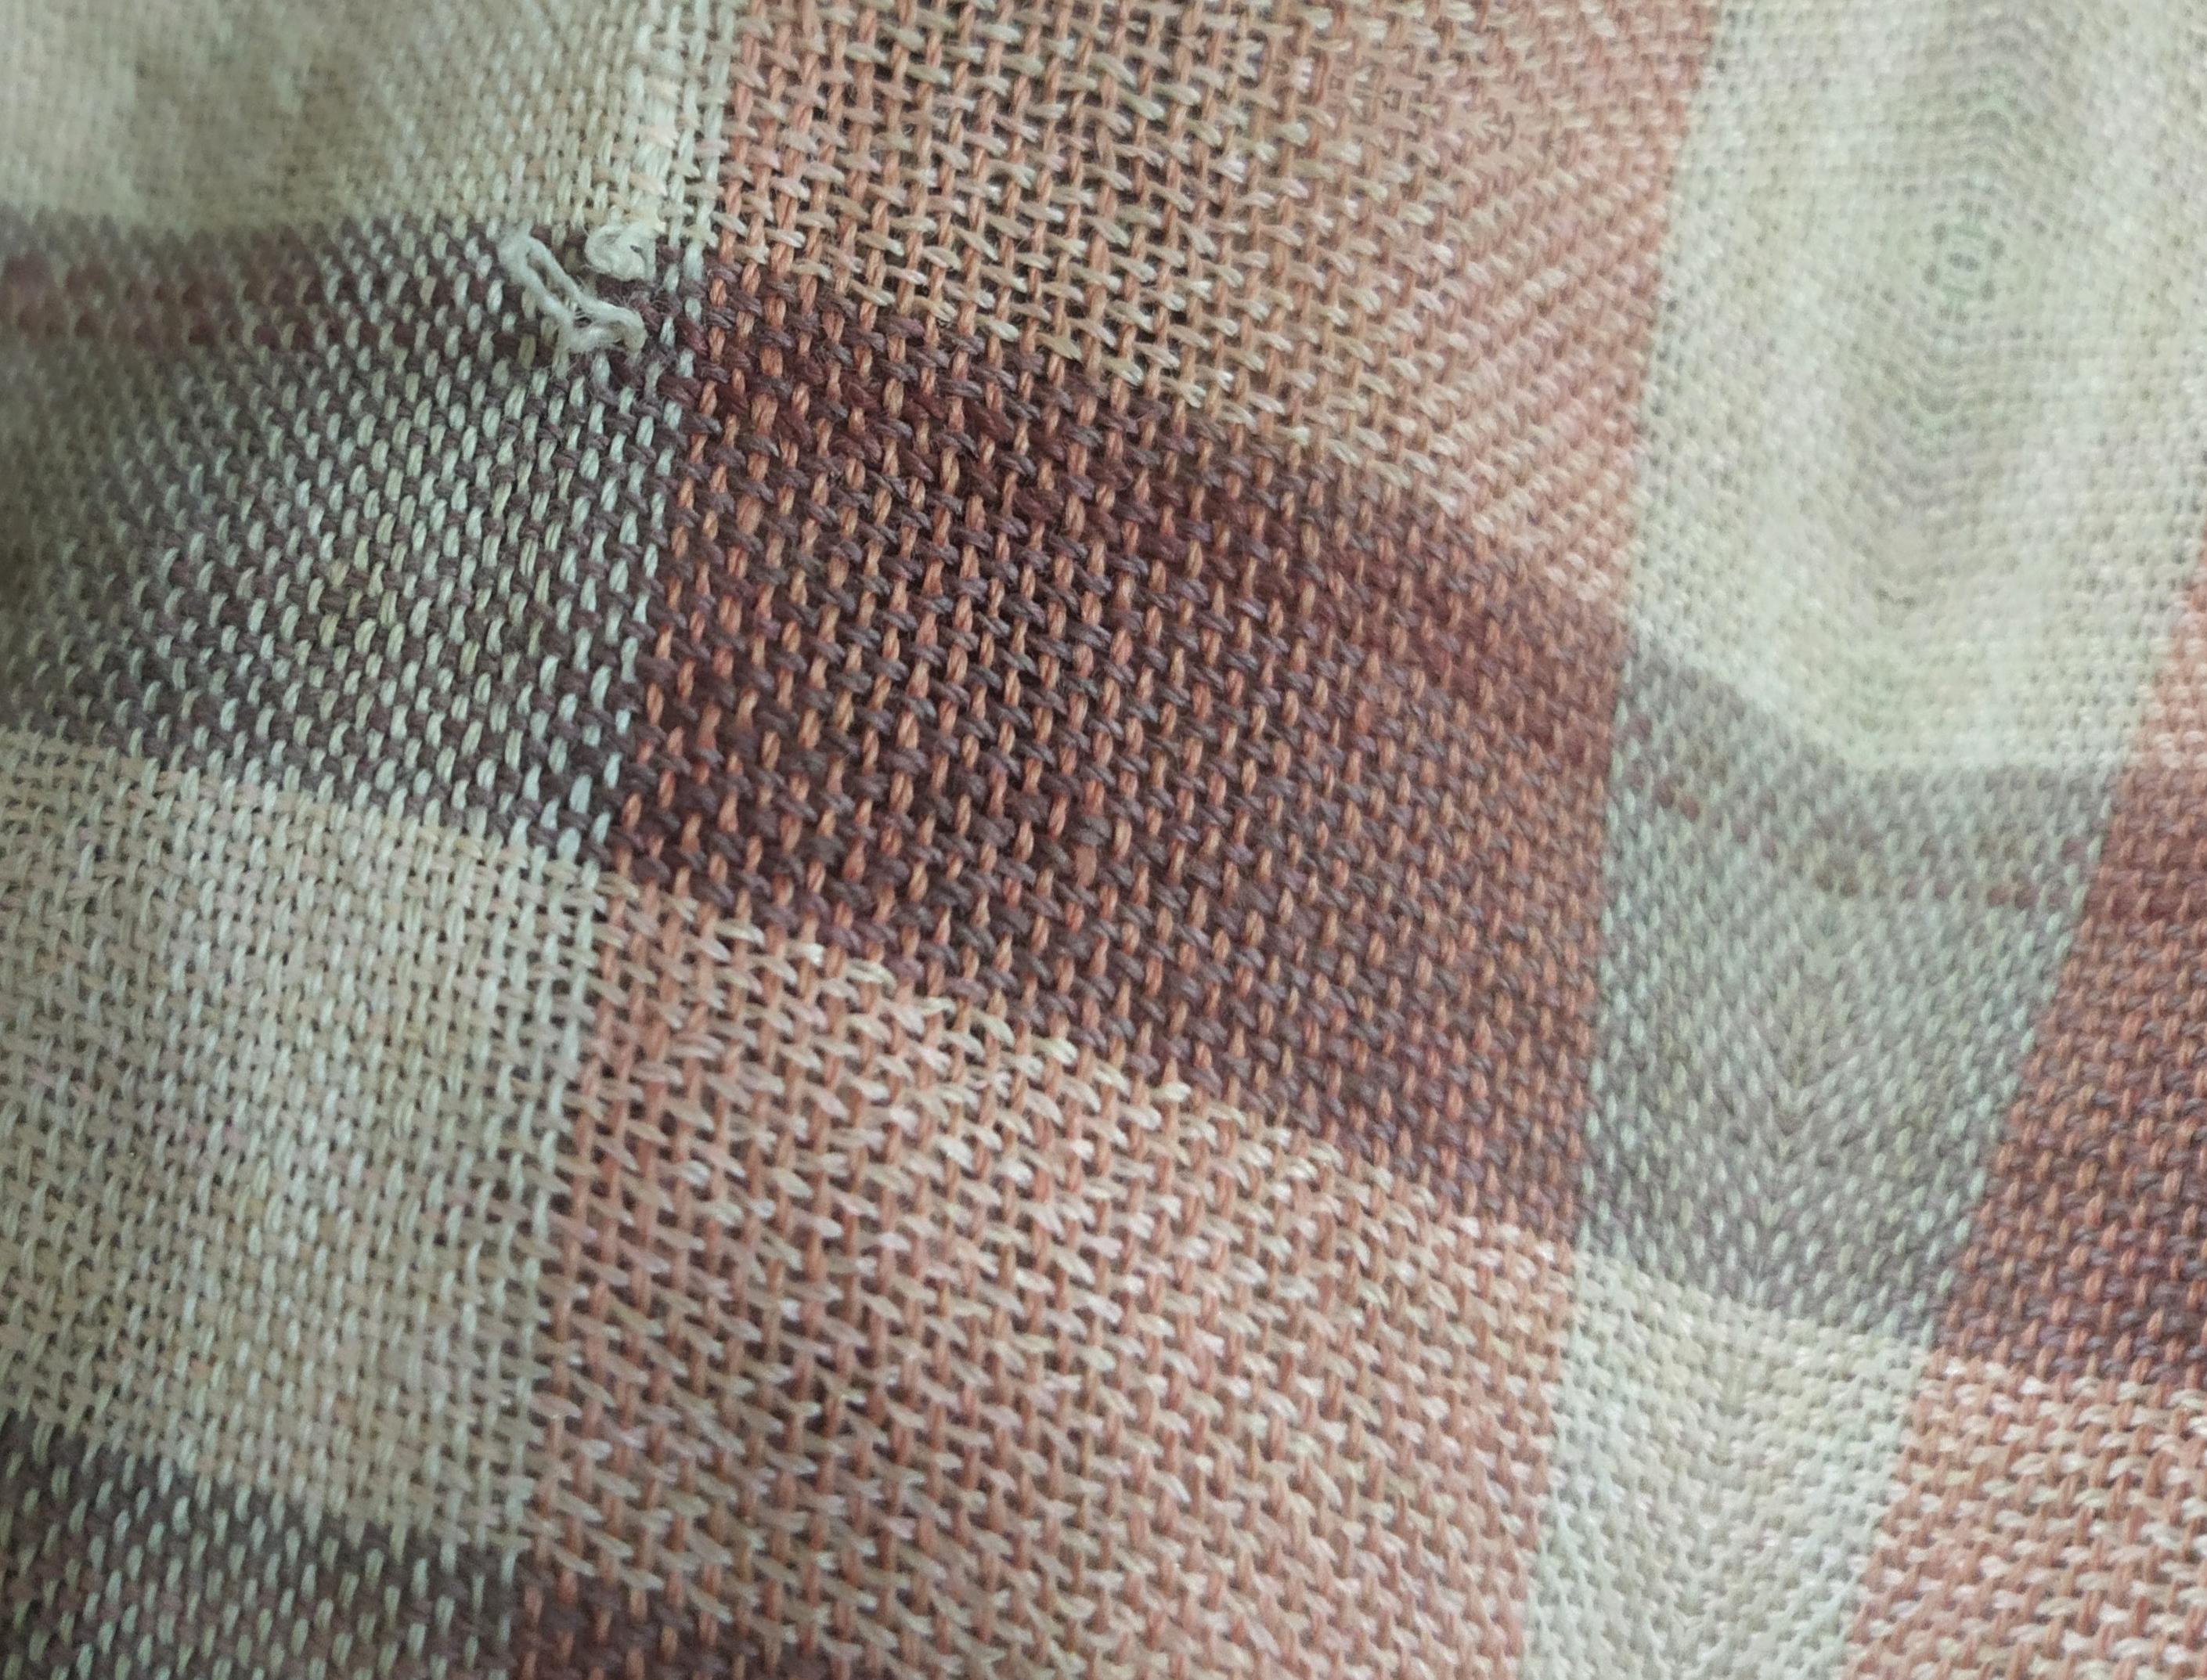snag: (460, 203, 714, 388)
